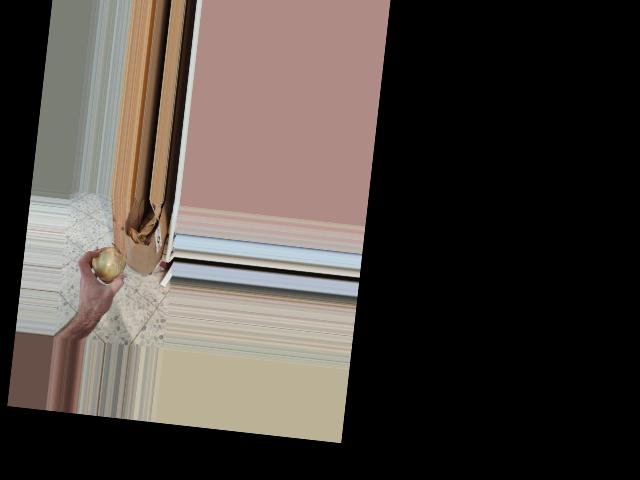onion: (88, 240, 129, 285)
